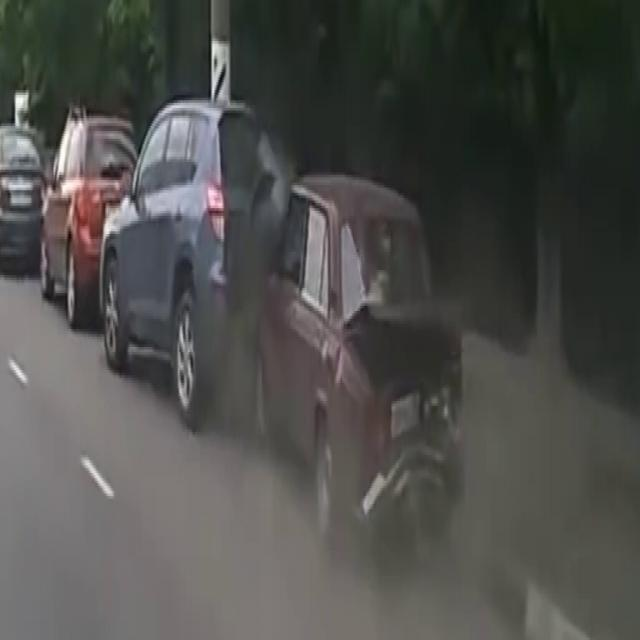accident: (168, 121, 411, 543)
